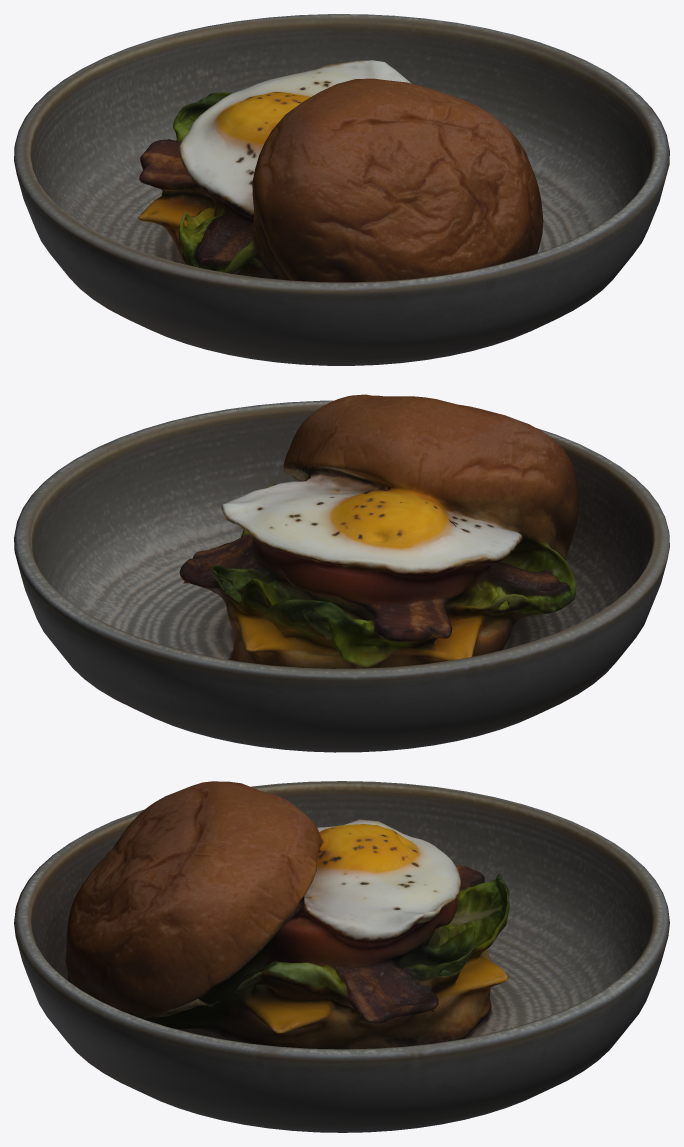
Rendered from BLT.FBX.
The picture shows the model from 3 angles, top to bottom: view 1: azimuth 30°, elevation 25°; view 2: azimuth 150°, elevation 25°; view 3: azimuth 270°, elevation 25°; orthographic projection.
Parts seen in each view (by area): view 1: BLT; view 2: BLT; view 3: BLT.
Part boxes in pixels (x1,y1,x2,y2): BLT: (14,14,669,365); BLT: (14,394,669,752); BLT: (14,781,669,1132).
Size of the model in its own units: 3.85 by 1.46 by 3.85.
Materials: 1 (1 with a texture image).
